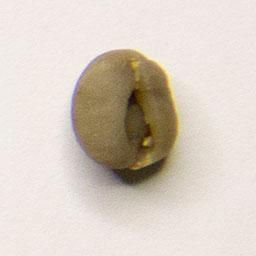peaberry: (68, 45, 181, 176)
